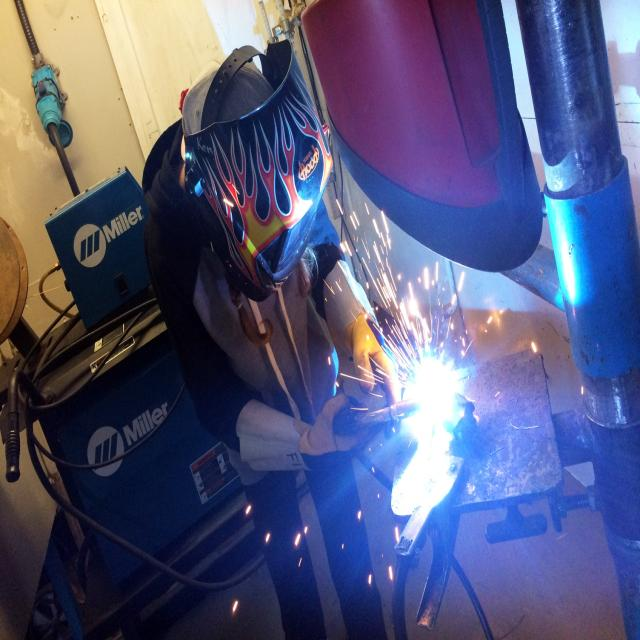welding: (402, 361, 458, 429)
